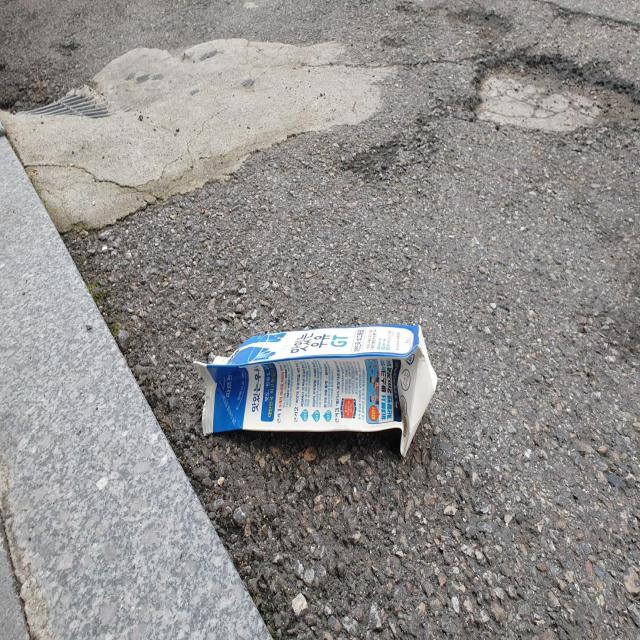paperpack: (194, 324, 438, 455)
